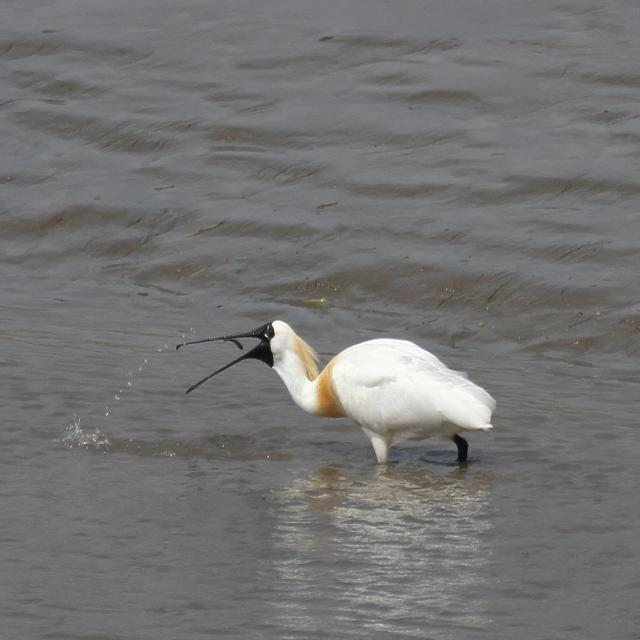Black-faced spoonbill: (177, 321, 495, 462)
